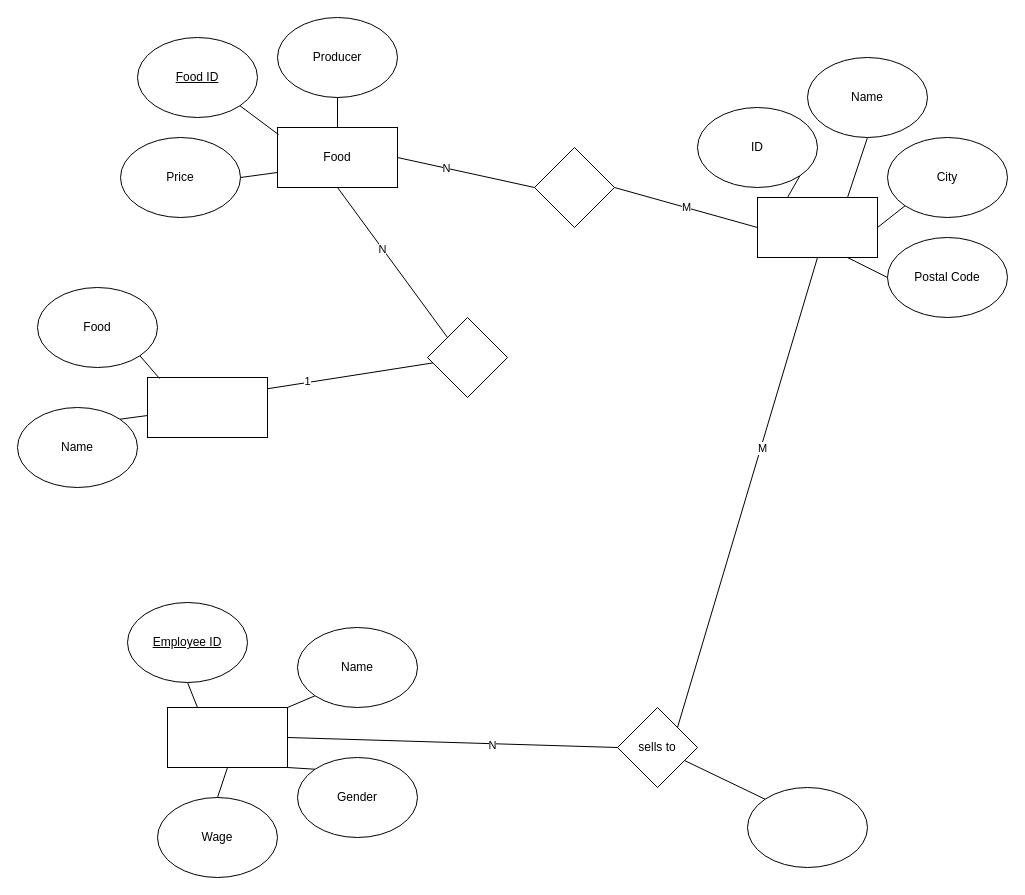
Image size: 1025x895. Some labels were removed from this diagram. Each missing label, with the centre of its shape:
"Animal" goes at [207,407].
"buys" goes at [574,187].
"Customer" goes at [817,227].
"eats" goes at [467,357].
"Employee" goes at [227,737].
"Order ID" goes at [807,827].
